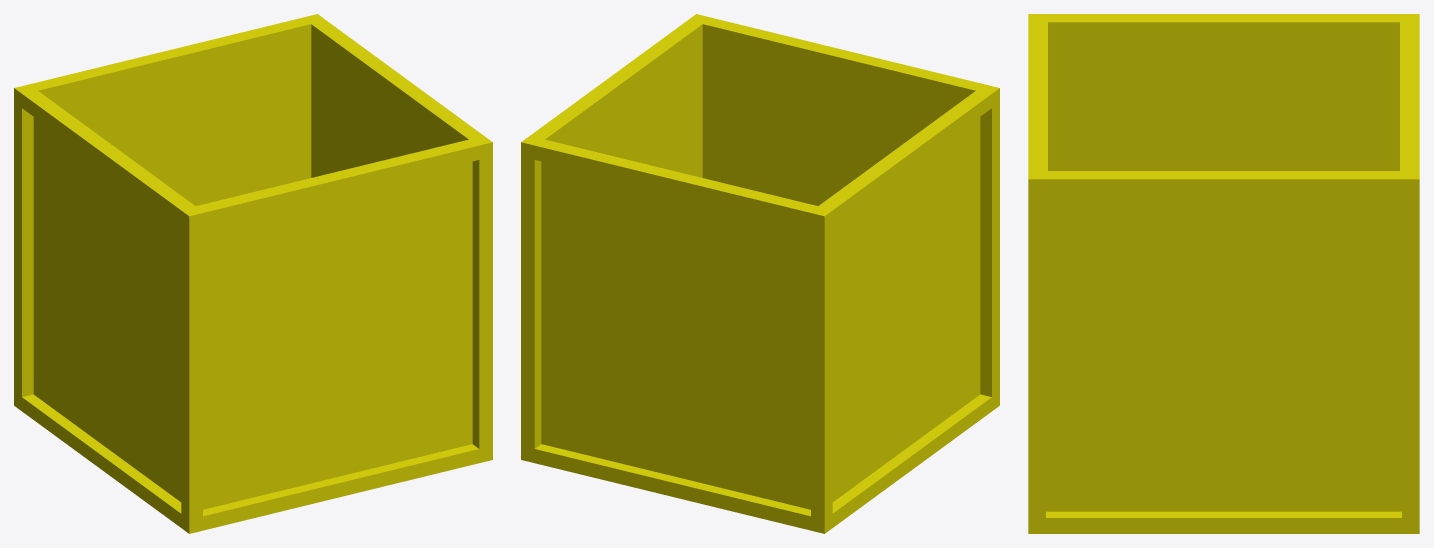
The model's file is create.fbx.
3 views of the same model, side by side, from view 1: azimuth 30°, elevation 25°; view 2: azimuth 150°, elevation 25°; view 3: azimuth 270°, elevation 25° (orthographic). The views are drawn at different scales.
Visible parts, largest first — view 1: create; view 2: create; view 3: create.
Boxes of the visible parts, x1,y1,x2,y2 form: create: [14, 14, 492, 533]; create: [521, 14, 999, 533]; create: [1028, 14, 1419, 533].
Size of the model in its own units: 0.6865 by 0.6865 by 0.6865.
